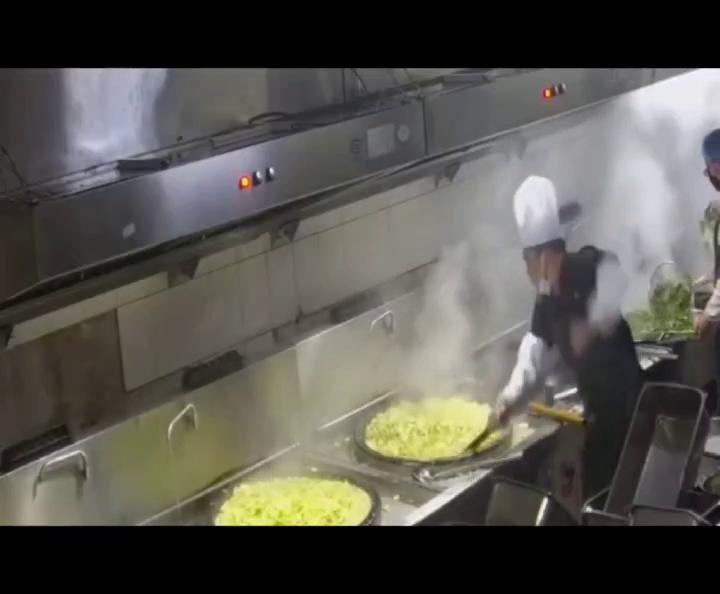mask: (522, 254, 562, 301)
